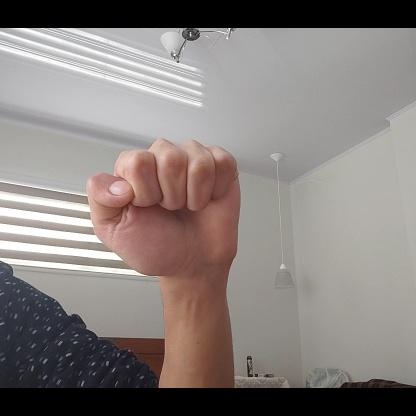A: (87, 138, 245, 278)
